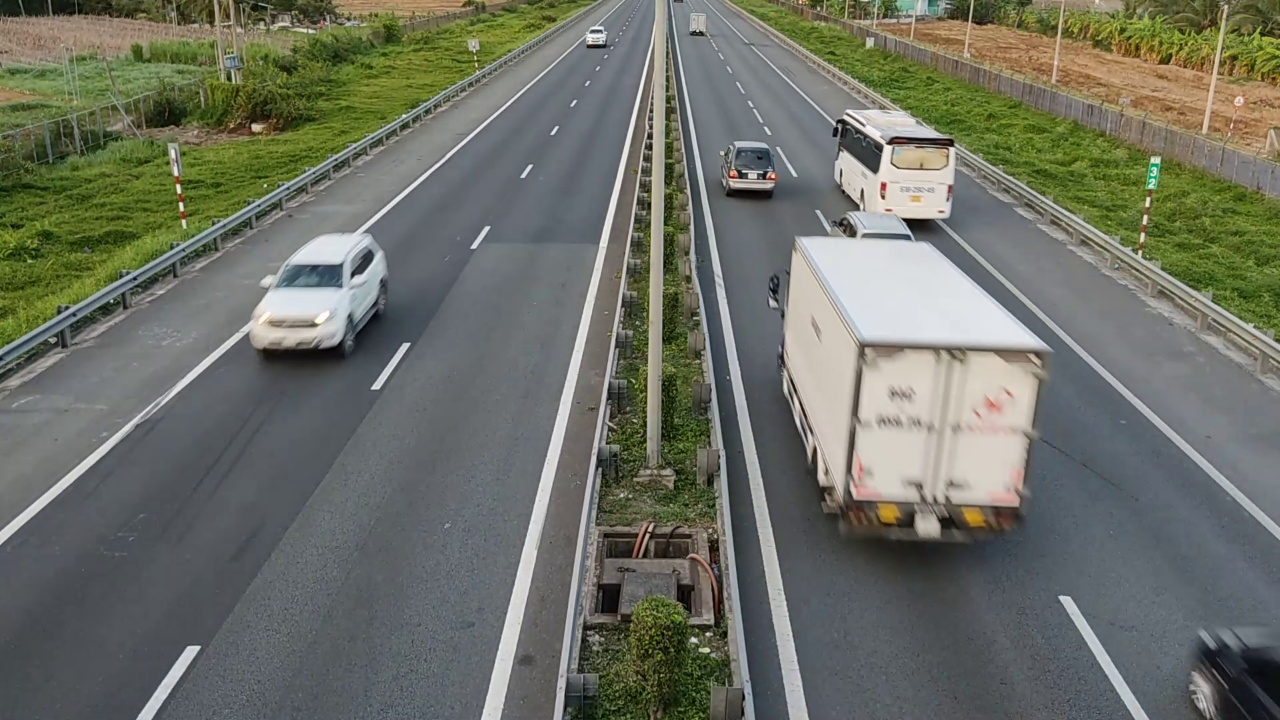bus: (829, 98, 958, 227)
car: (247, 231, 390, 358), (1184, 621, 1280, 717), (719, 140, 779, 197), (585, 25, 609, 47)
truck: (767, 219, 1053, 545)
